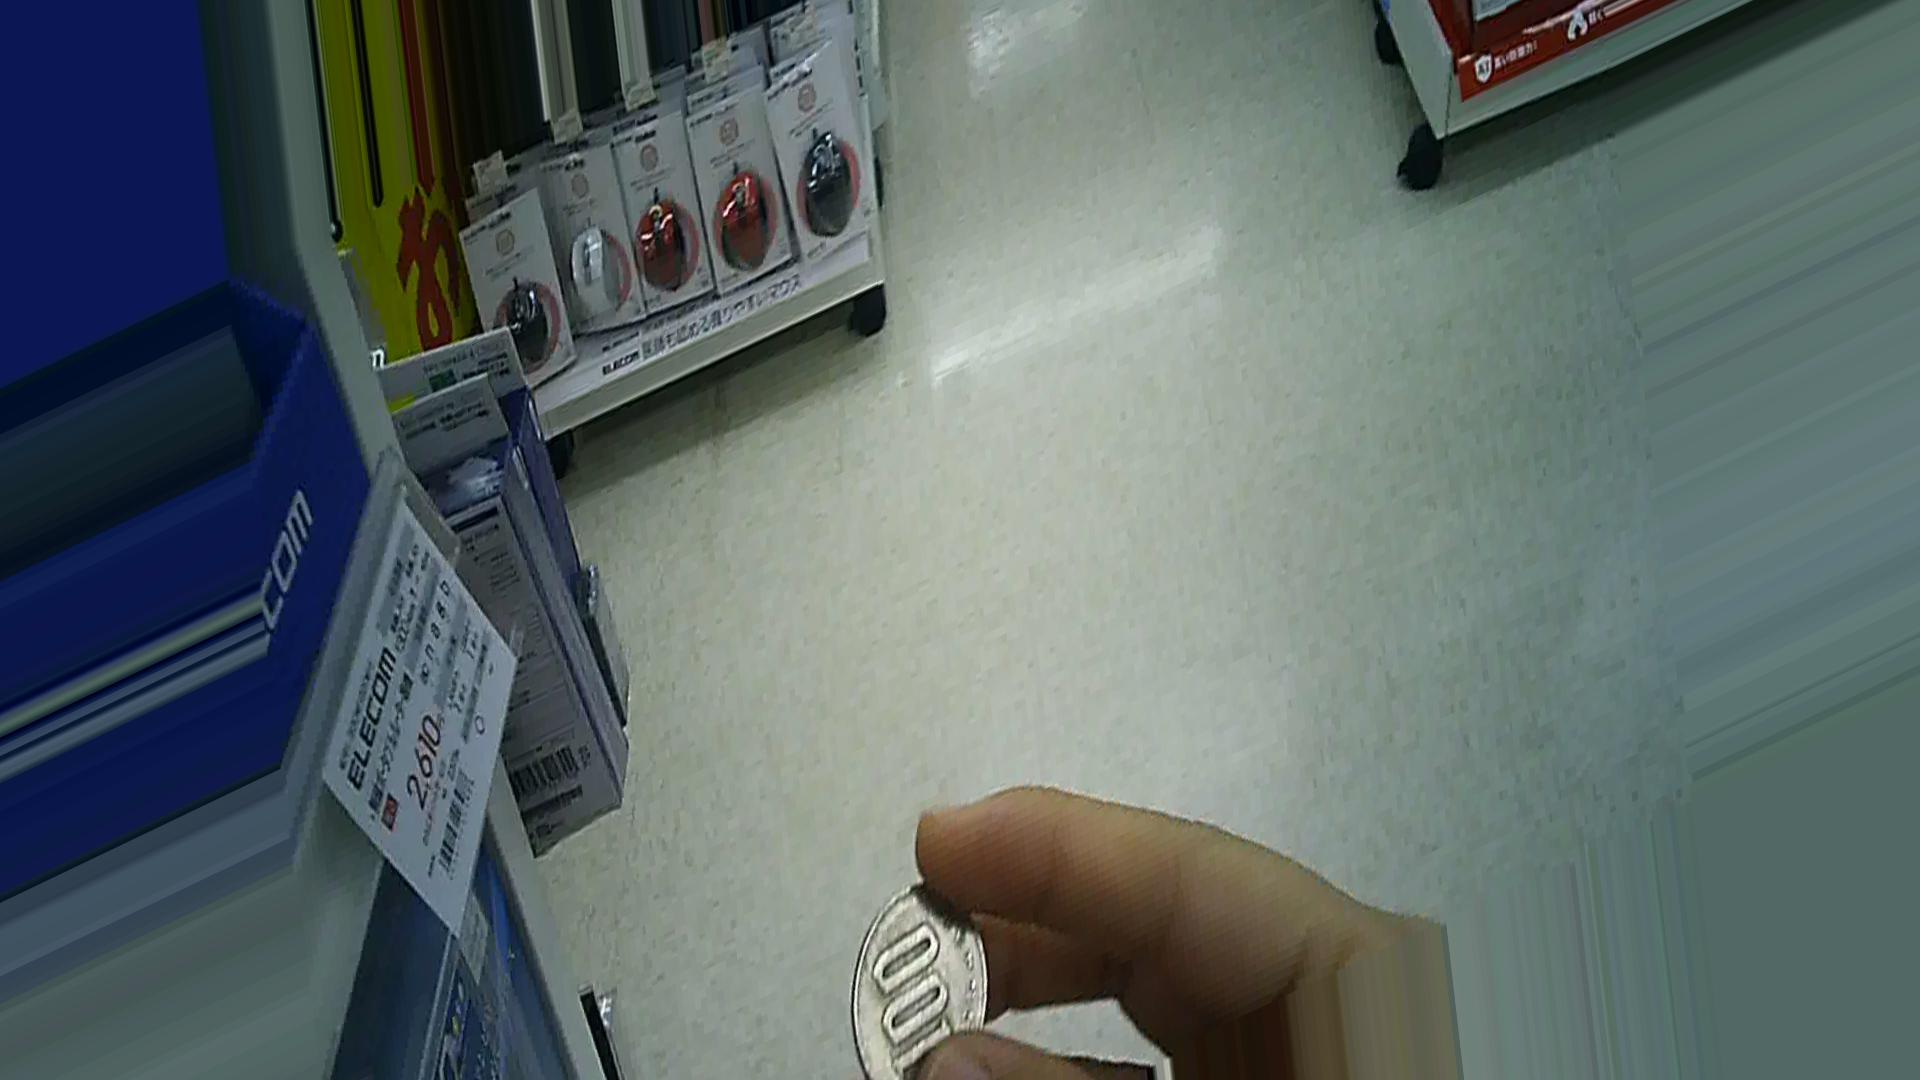100 Yen: (833, 872, 1000, 1079)
